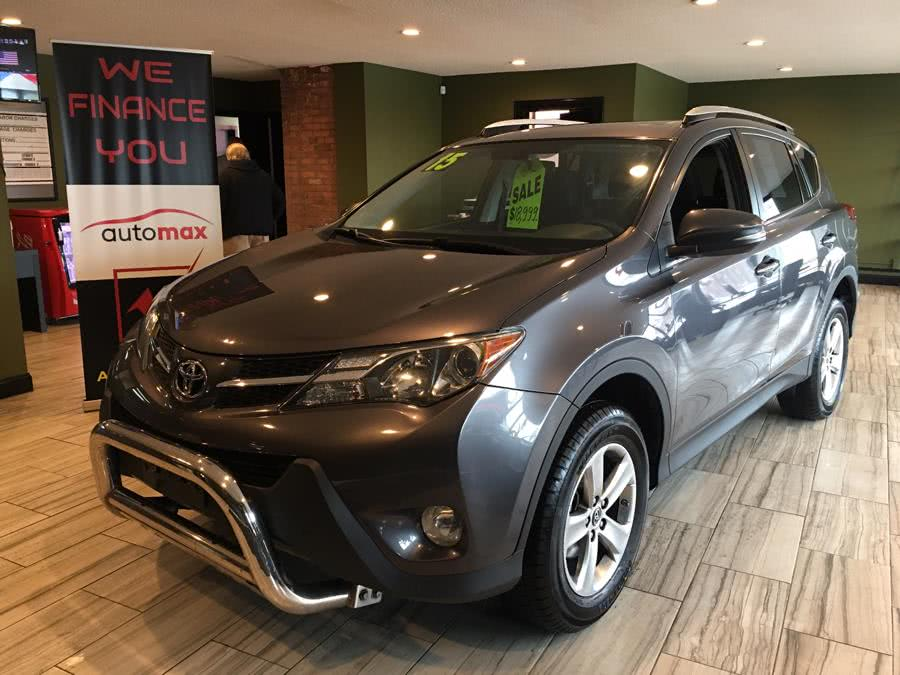Toyota RAV-4: (88, 103, 860, 638)
